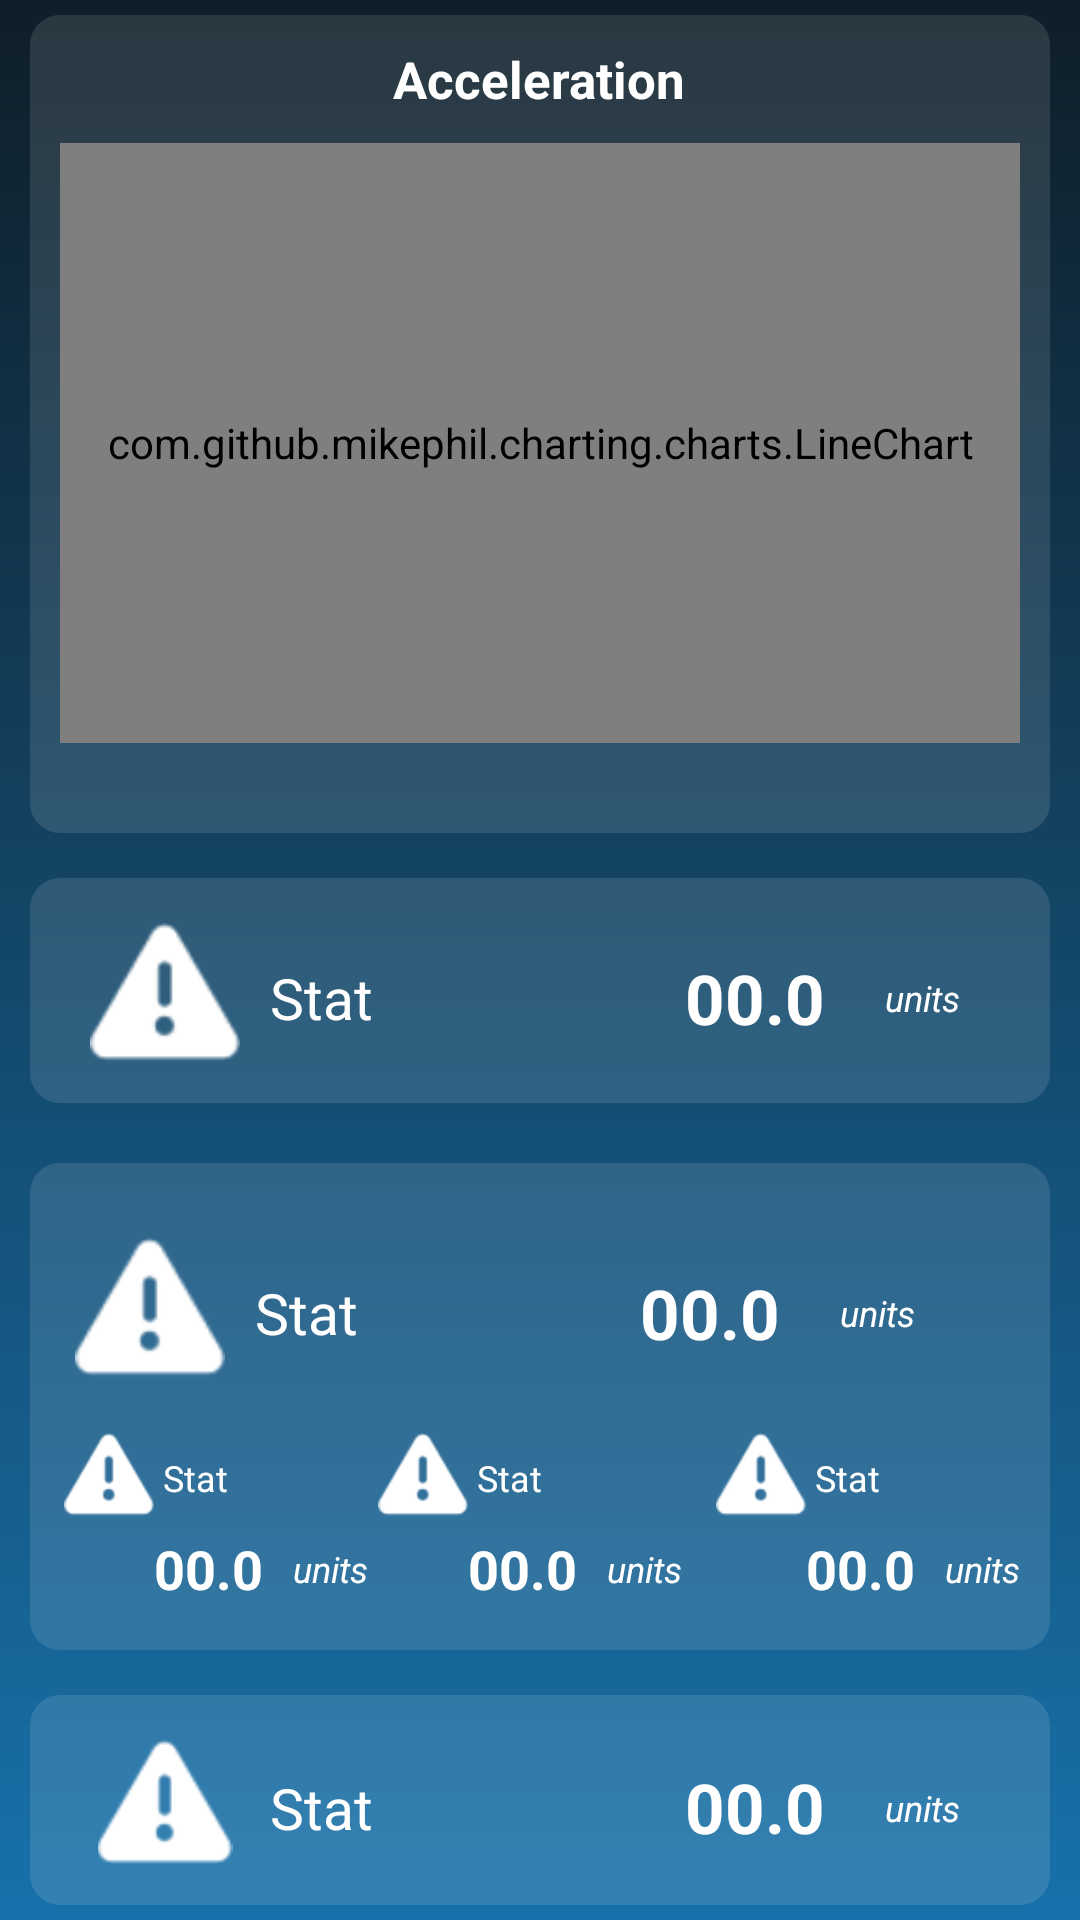

Screen size 1080 x 1920. Icon name, then its center in pixels as (x=x, y=y):
alert: (x=165, y=991), (x=150, y=1306), (x=109, y=1474), (x=423, y=1474), (x=761, y=1474), (x=165, y=1801)
